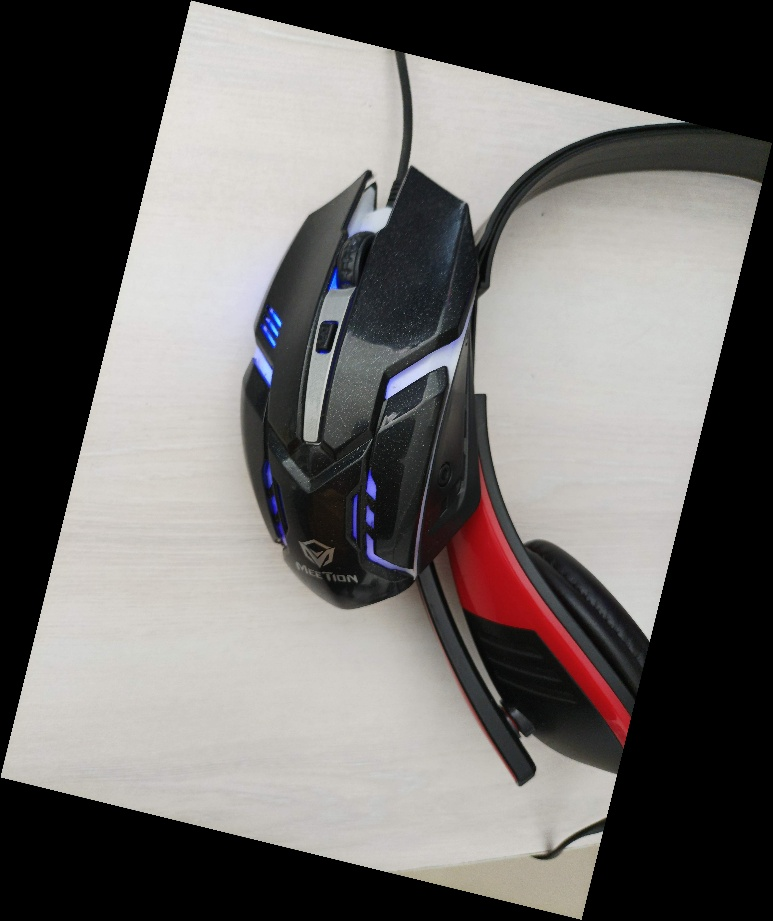mouse: (235, 160, 482, 614)
